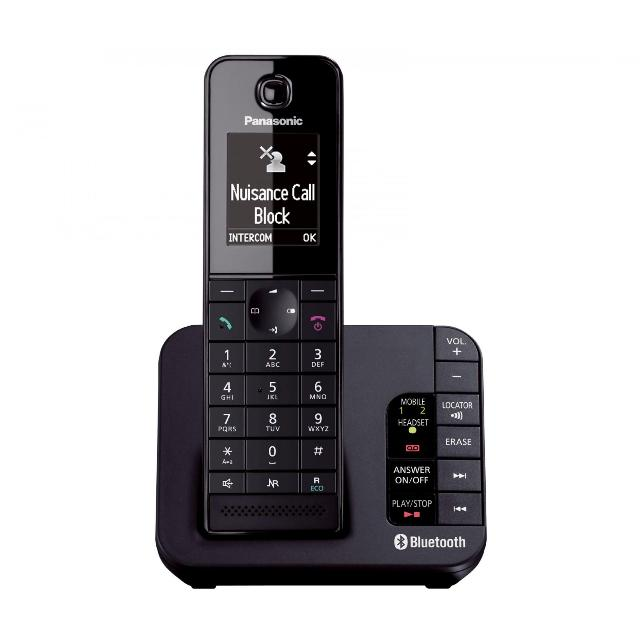Telephone-Set: (124, 35, 512, 588)
